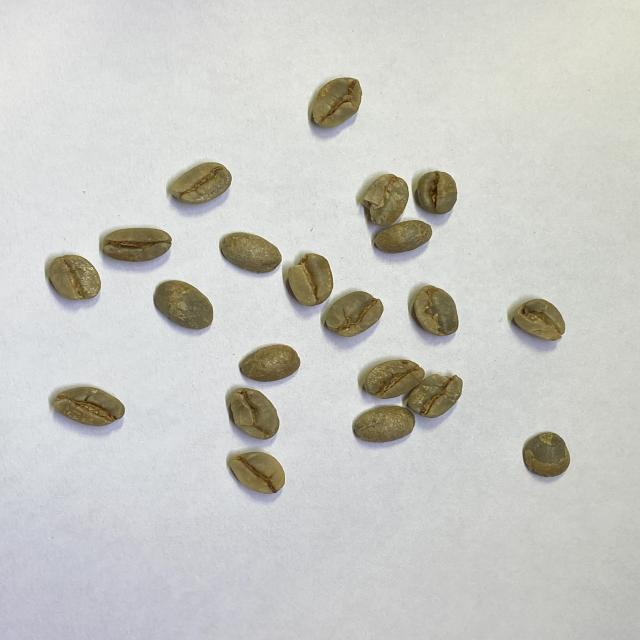bad: (324, 290, 384, 338), (53, 386, 125, 426), (311, 77, 363, 129), (227, 388, 280, 439), (412, 284, 460, 338), (361, 173, 409, 226), (406, 373, 463, 417), (288, 252, 334, 306), (513, 298, 566, 343)
good: (153, 280, 214, 330), (219, 232, 282, 275), (170, 162, 232, 203), (48, 254, 102, 301), (102, 227, 172, 262), (228, 452, 286, 494), (364, 358, 424, 398), (239, 343, 300, 382), (522, 430, 571, 478), (353, 405, 415, 442), (373, 220, 432, 252), (417, 170, 458, 214)
